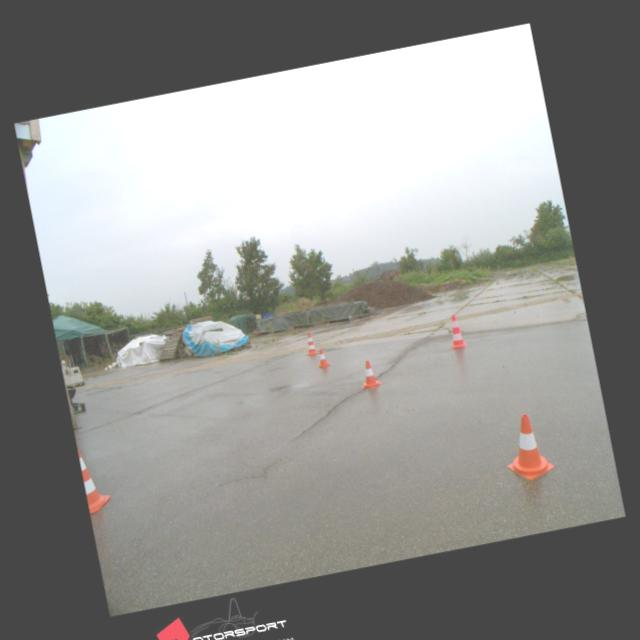large_orange_cone: (76, 439, 112, 514), (444, 313, 466, 350), (302, 330, 320, 354)
orange_cone: (498, 411, 556, 483), (358, 358, 382, 389), (315, 348, 330, 367)
